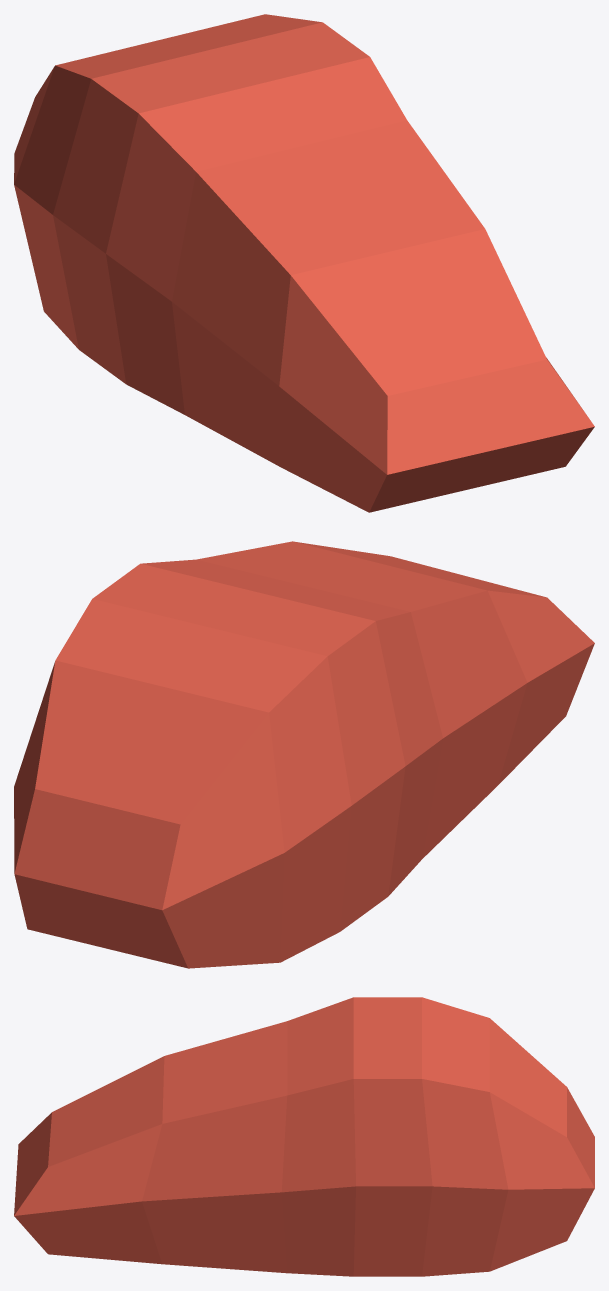
3 renders of one model, top to bottom at view 1: azimuth 30°, elevation 25°; view 2: azimuth 150°, elevation 25°; view 3: azimuth 270°, elevation 25°, orthographic. The views are drawn at different scales.
Parts seen in each view (by area): view 1: Tuna; view 2: Tuna; view 3: Tuna.
Boxes of the visible parts, x1=… form: Tuna: x1=14, y1=14, x2=594, y2=512; Tuna: x1=14, y1=541, x2=594, y2=968; Tuna: x1=14, y1=997, x2=594, y2=1276.
Size of the model in its own units: 2.29 by 2 by 5.44.
